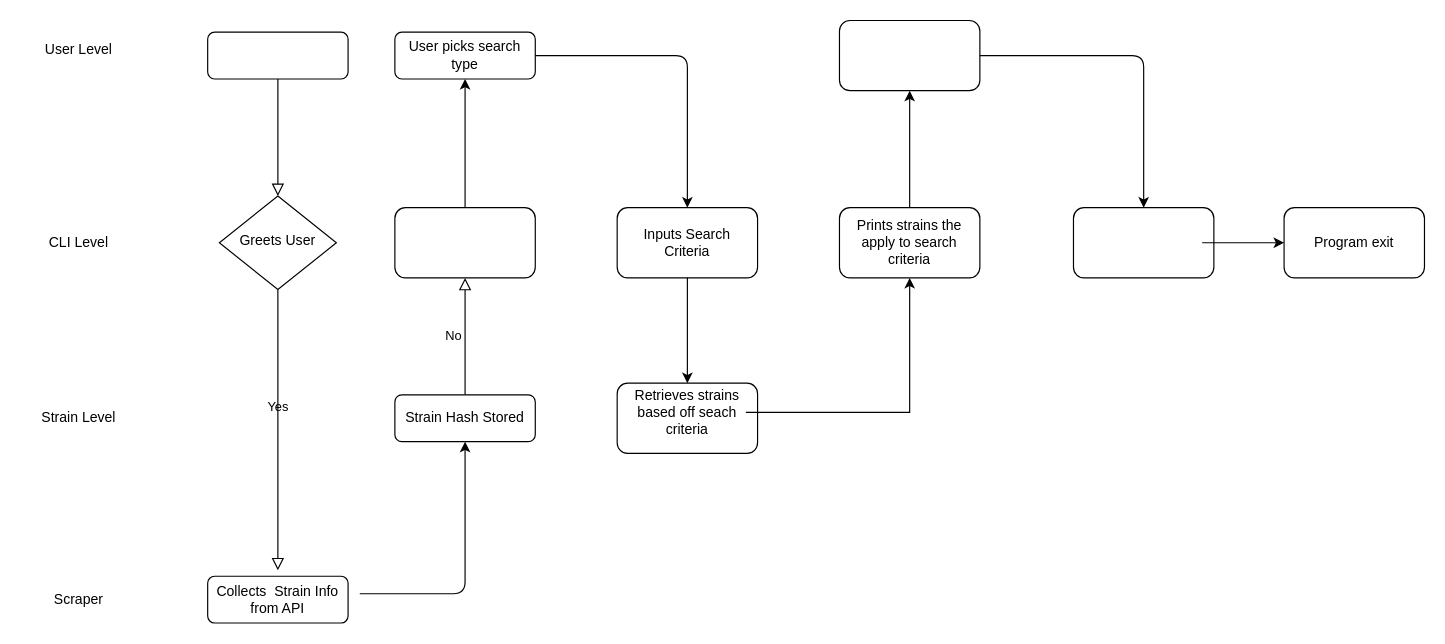
The diagram is 1445 pixels wide and 644 high, and some of its shapes have lost their labels. The shapes that lost their labels are listed below. From the top down, each one's box as (x1, y1, x2, y2) in pixels, then its label:
(207, 31, 348, 79): User starts app
(838, 19, 980, 91): Chooses strain they want
(394, 207, 535, 278): Asks User how they want to search: Name, Race, Flavor, Effect
(1072, 207, 1214, 278): Prints full strain info
